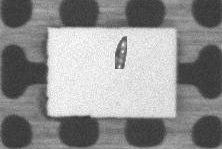DIE_INK: (171, 24, 189, 46)
